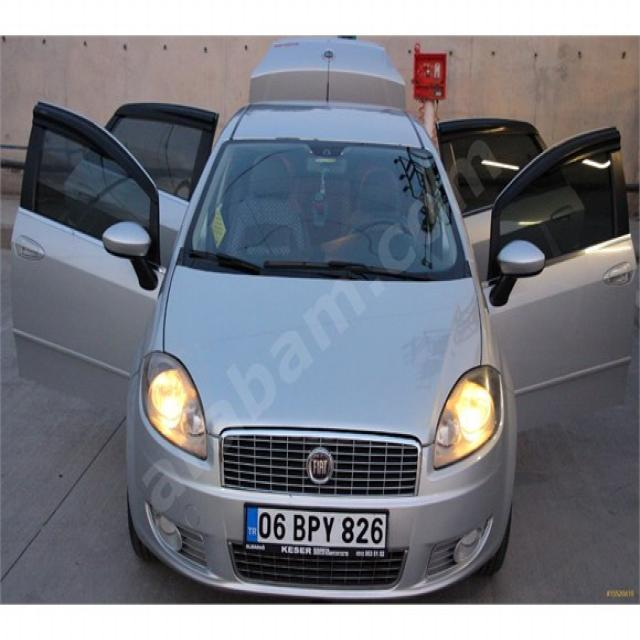plate: (242, 502, 391, 559)
